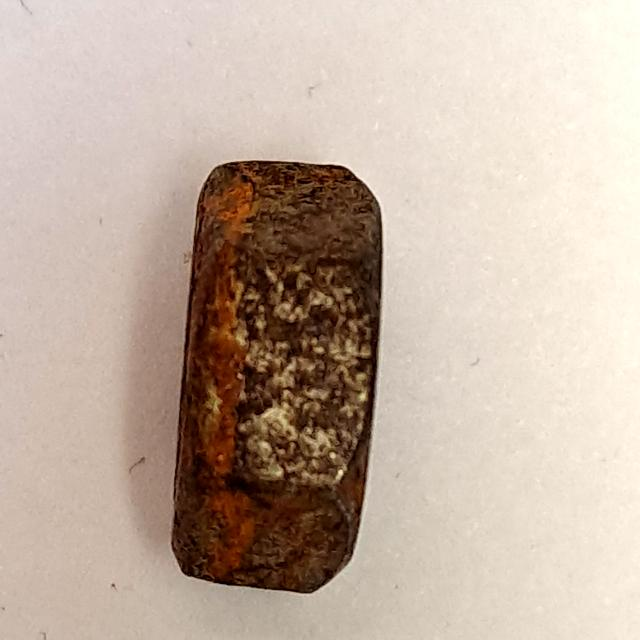Side_Rust: (160, 149, 397, 604)
